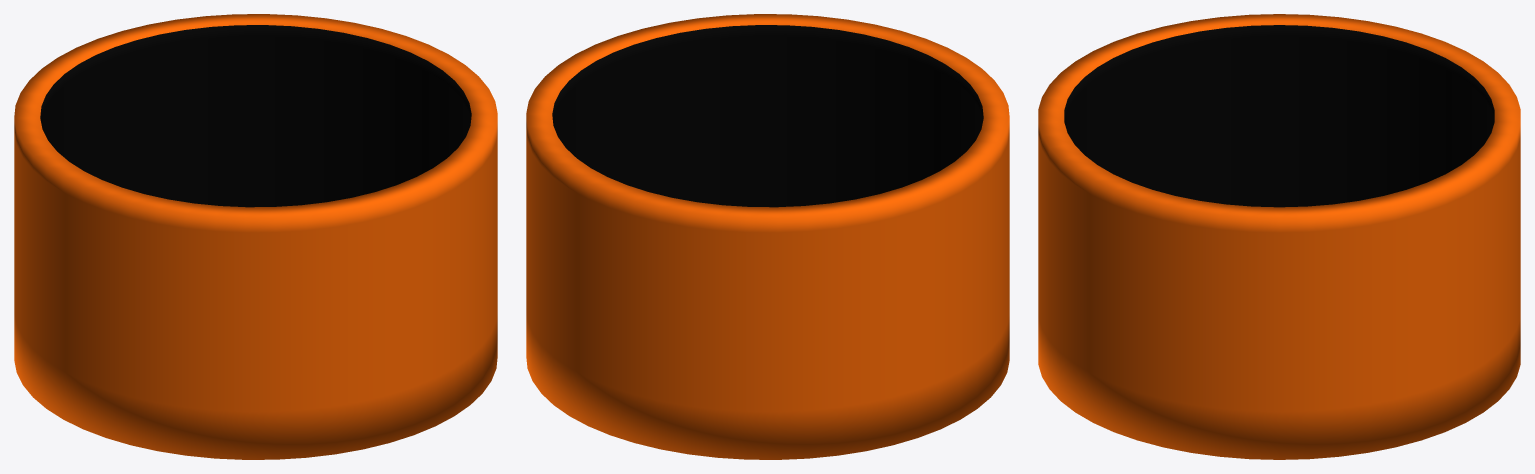
Rendered from Pot_1.fbx.
3 renders of one model, left to right at view 1: azimuth 30°, elevation 25°; view 2: azimuth 150°, elevation 25°; view 3: azimuth 270°, elevation 25°, orthographic.
Visible parts, largest first — view 1: Pot_1; view 2: Pot_1; view 3: Pot_1.
Part boxes in pixels (box(x1,y1,x2,y2)): Pot_1: box(14, 14, 497, 459); Pot_1: box(526, 14, 1009, 459); Pot_1: box(1038, 14, 1520, 459).
Bounding box in the file's own units: 24.91 × 13.74 × 24.86.
